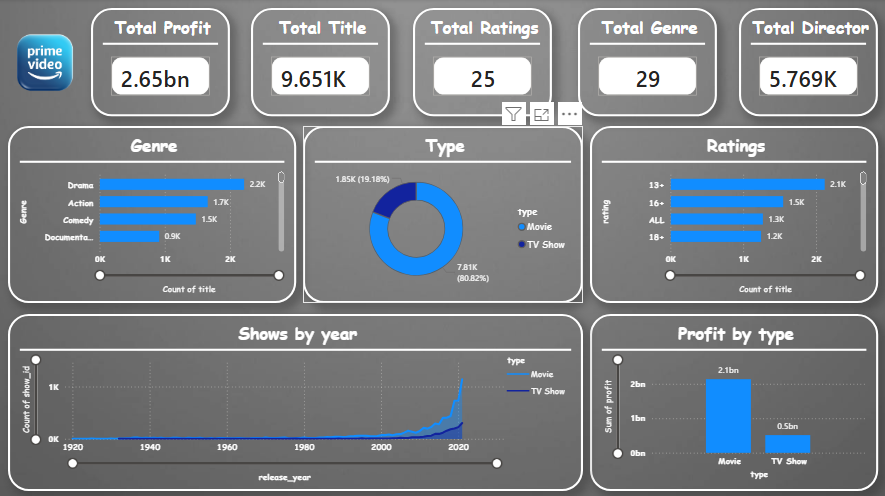

The dashboard page shown, as its layout file describes it:
{"tool":"powerbi","page":{"name":"Amazon_prime_dashboard","canvas":[1280,720],"ordinal":0},"visuals":[{"type":"cardVisual","title":"Total Profit","fields":{"Data":["Sum(amazon_prime_titles.profit)"]},"box":[132.5,13,200.2,155.5],"z":1000},{"type":"cardVisual","title":"Total Title","fields":{"Data":["Count(amazon_prime_titles.title)"]},"box":[362.9,13,200.2,155.5],"z":2000},{"type":"cardVisual","title":"Total Director","fields":{"Data":["Count(amazon_prime_titles.director)"]},"box":[1065.6,13,200.2,155.5],"z":3000},{"type":"cardVisual","title":"Total Genre","fields":{"Data":["Count(amazon_prime_titles.Genre)"]},"box":[833.8,13,200.2,155.5],"z":4000},{"type":"cardVisual","title":"Total Ratings","fields":{"Data":["Count(amazon_prime_titles.rating)"]},"box":[596.2,13,200.2,155.5],"z":5000},{"type":"barChart","title":"Genre","fields":{"Category":["amazon_prime_titles.Genre"],"Y":["CountNonNull(amazon_prime_titles.title)"]},"box":[13,182.9,414.7,254.9],"z":6000},{"type":"donutChart","title":"Type","fields":{"Category":["amazon_prime_titles.type"],"Y":["CountNonNull(amazon_prime_titles.show_id)"]},"box":[437.8,182.9,403.2,254.9],"z":7000},{"type":"barChart","title":"Ratings","fields":{"Category":["amazon_prime_titles.rating"],"Y":["CountNonNull(amazon_prime_titles.title)"]},"box":[851,182.9,414.7,254.9],"z":7001},{"type":"columnChart","title":"Profit by type","fields":{"Category":["amazon_prime_titles.type"],"Y":["Sum(amazon_prime_titles.profit)"]},"box":[851,453.6,414.7,254.9],"z":7002},{"type":"areaChart","title":"Shows by year","fields":{"Category":["amazon_prime_titles.release_year"],"Y":["CountNonNull(amazon_prime_titles.show_id)"],"Series":["amazon_prime_titles.type"]},"box":[13,453.6,828,254.9],"z":7003},{"type":"image","box":[0,0,132.5,182.9],"z":7004}]}

Visuals, with their boxes in screenshot pixels (x1, y1, x2, y2), scaled from the page's 1280x720 canvas onto the 885x496 screenshot:
"Total Profit" cardVisual: pyautogui.locateOnScreen(92, 9, 230, 116)
"Total Title" cardVisual: pyautogui.locateOnScreen(251, 9, 389, 116)
"Total Director" cardVisual: pyautogui.locateOnScreen(737, 9, 875, 116)
"Total Genre" cardVisual: pyautogui.locateOnScreen(576, 9, 715, 116)
"Total Ratings" cardVisual: pyautogui.locateOnScreen(412, 9, 551, 116)
"Genre" barChart: pyautogui.locateOnScreen(9, 126, 296, 302)
"Type" donutChart: pyautogui.locateOnScreen(303, 126, 581, 302)
"Ratings" barChart: pyautogui.locateOnScreen(588, 126, 875, 302)
"Profit by type" columnChart: pyautogui.locateOnScreen(588, 312, 875, 488)
"Shows by year" areaChart: pyautogui.locateOnScreen(9, 312, 581, 488)
image: pyautogui.locateOnScreen(0, 0, 92, 126)
